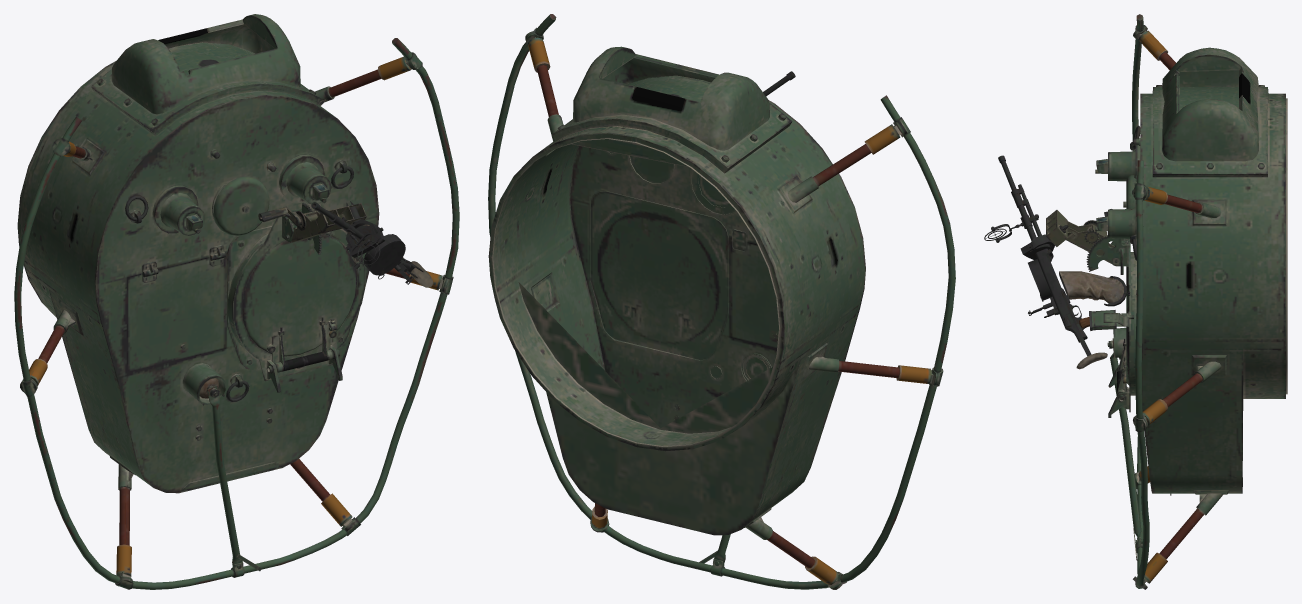
The model's file is Turret_01.glb.
3 renders of one model, left to right at view 1: azimuth 30°, elevation 25°; view 2: azimuth 150°, elevation 25°; view 3: azimuth 270°, elevation 25°, orthographic. The views are drawn at different scales.
Parts seen in each view (by area): view 1: set_0_group_0; view 2: set_0_group_0; view 3: set_0_group_0.
Part boxes in pixels (x1,y1,x2,y2): set_0_group_0: [14, 14, 459, 589]; set_0_group_0: [488, 14, 955, 589]; set_0_group_0: [984, 14, 1287, 589].
Size of the model in its own units: 2.09 by 2.3 by 1.32.
Materials: 1 (1 with a texture image).
